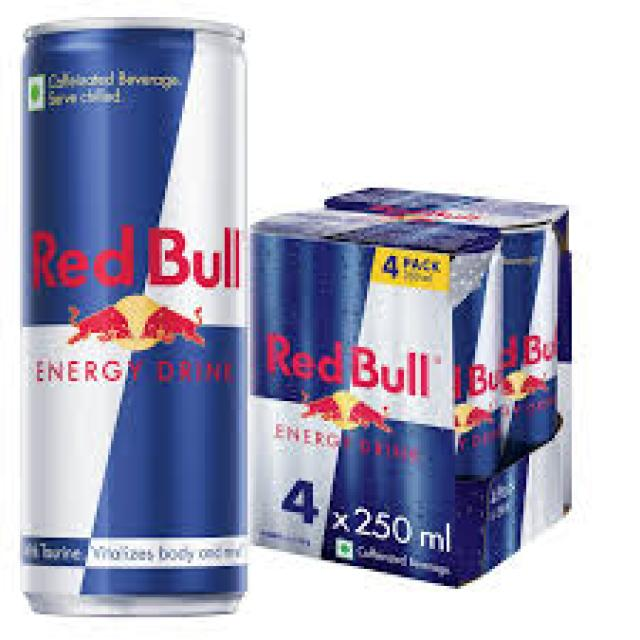red-bull: (18, 27, 252, 606)
